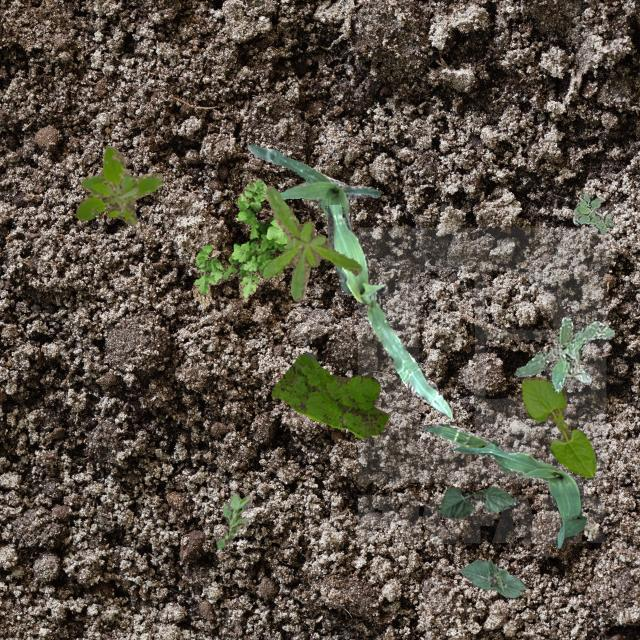crop: (326, 204, 452, 418), (422, 422, 586, 546), (246, 144, 380, 294), (520, 376, 594, 476), (438, 484, 518, 520), (458, 558, 524, 596)
weed: (192, 177, 288, 306), (262, 184, 361, 300), (270, 352, 388, 436), (514, 316, 614, 392), (75, 144, 162, 224), (216, 492, 250, 548), (572, 192, 612, 234)
